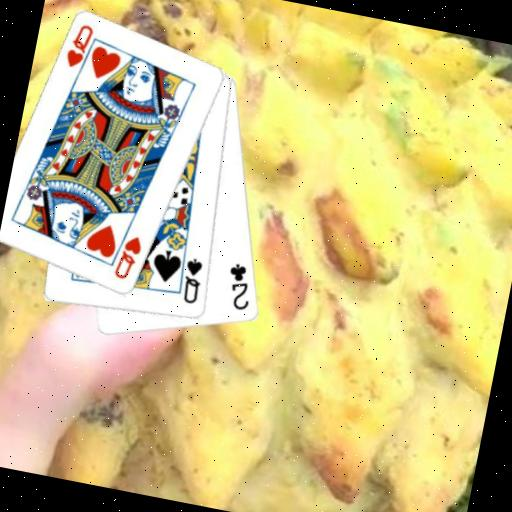2C: (220, 259, 259, 314)
QH: (60, 20, 102, 82), (111, 231, 146, 284)
QS: (176, 254, 207, 307)
